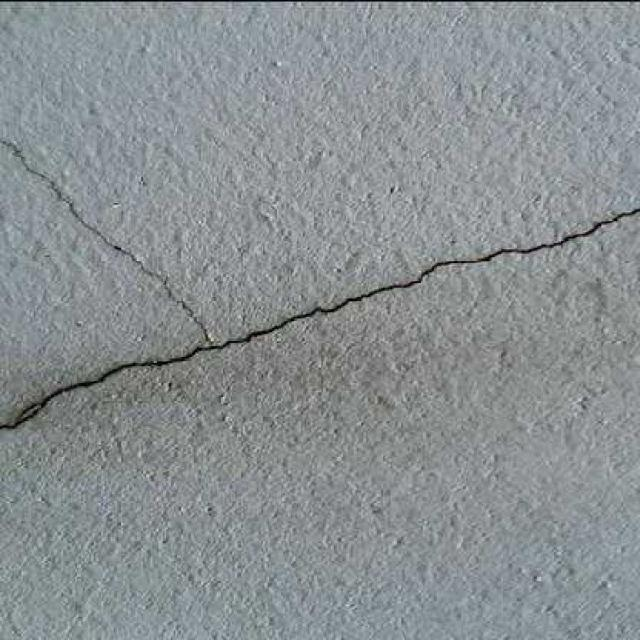D00: (0, 134, 640, 431)
